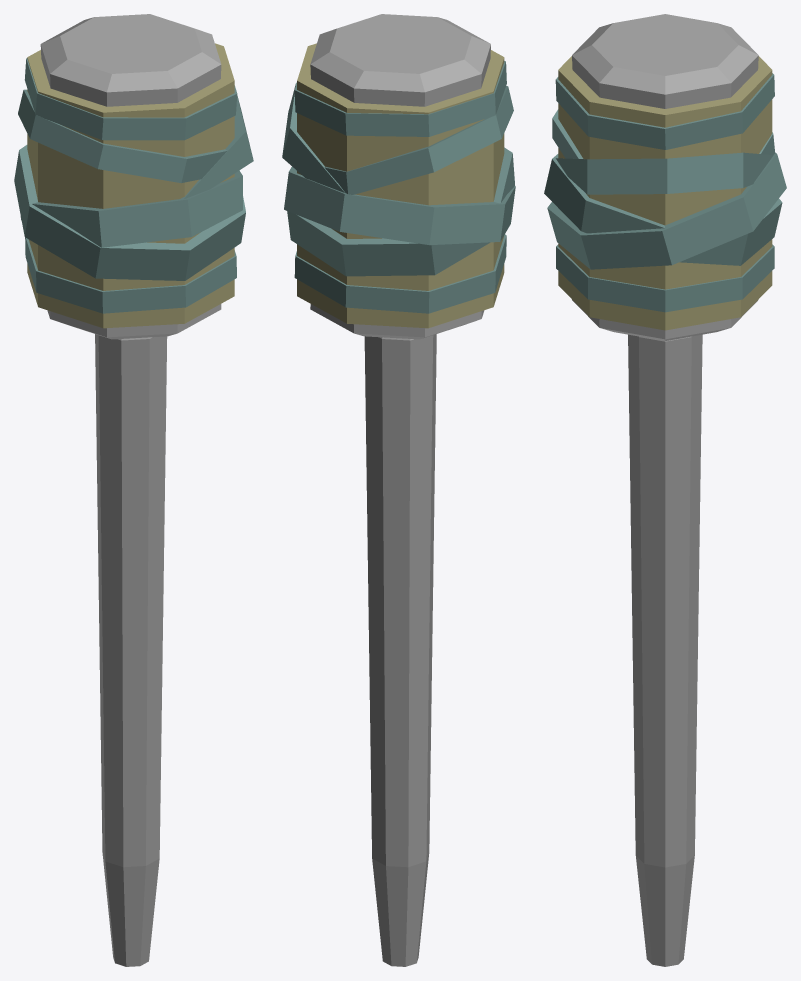
File: tocha var3.fbx
3 views of the same model, side by side, from view 1: azimuth 30°, elevation 25°; view 2: azimuth 150°, elevation 25°; view 3: azimuth 270°, elevation 25° (orthographic).
Visible parts, largest first — view 1: haste_geo1, tira_base_geo, pira_geo, tira_geo2, tira_geo3, tira_geo5, tira_geo6, tira_geo1, tira_geo4; view 2: haste_geo1, tira_base_geo, pira_geo, tira_geo2, tira_geo3, tira_geo6, tira_geo1, tira_geo5, tira_geo4; view 3: haste_geo1, tira_base_geo, pira_geo, tira_geo2, tira_geo4, tira_geo3, tira_geo1, tira_geo6, tira_geo5.
Boxes of the visible parts, x1,y1,x2,y2 form: haste_geo1: [95, 334, 167, 966]; tira_base_geo: [27, 43, 234, 328]; pira_geo: [40, 14, 221, 339]; tira_geo2: [14, 145, 245, 280]; tira_geo3: [20, 170, 242, 247]; tira_geo5: [18, 89, 226, 183]; tira_geo6: [24, 58, 237, 140]; tira_geo1: [25, 237, 236, 313]; tira_geo4: [181, 96, 253, 199]; haste_geo1: [364, 334, 436, 966]; tira_base_geo: [297, 43, 504, 328]; pira_geo: [310, 14, 490, 339]; tira_geo2: [284, 166, 515, 245]; tira_geo3: [287, 147, 514, 276]; tira_geo6: [294, 61, 506, 136]; tira_geo1: [294, 234, 506, 313]; tira_geo5: [324, 86, 513, 194]; tira_geo4: [282, 82, 345, 193]; haste_geo1: [628, 334, 702, 966]; tira_base_geo: [558, 56, 772, 330]; pira_geo: [572, 14, 758, 340]; tira_geo2: [547, 152, 786, 269]; tira_geo4: [556, 152, 773, 194]; tira_geo3: [544, 154, 782, 265]; tira_geo1: [556, 244, 774, 312]; tira_geo6: [555, 73, 774, 149]; tira_geo5: [552, 109, 775, 158].
Bounding box in the file's own units: 0.2401 × 0.9791 × 0.2358.
